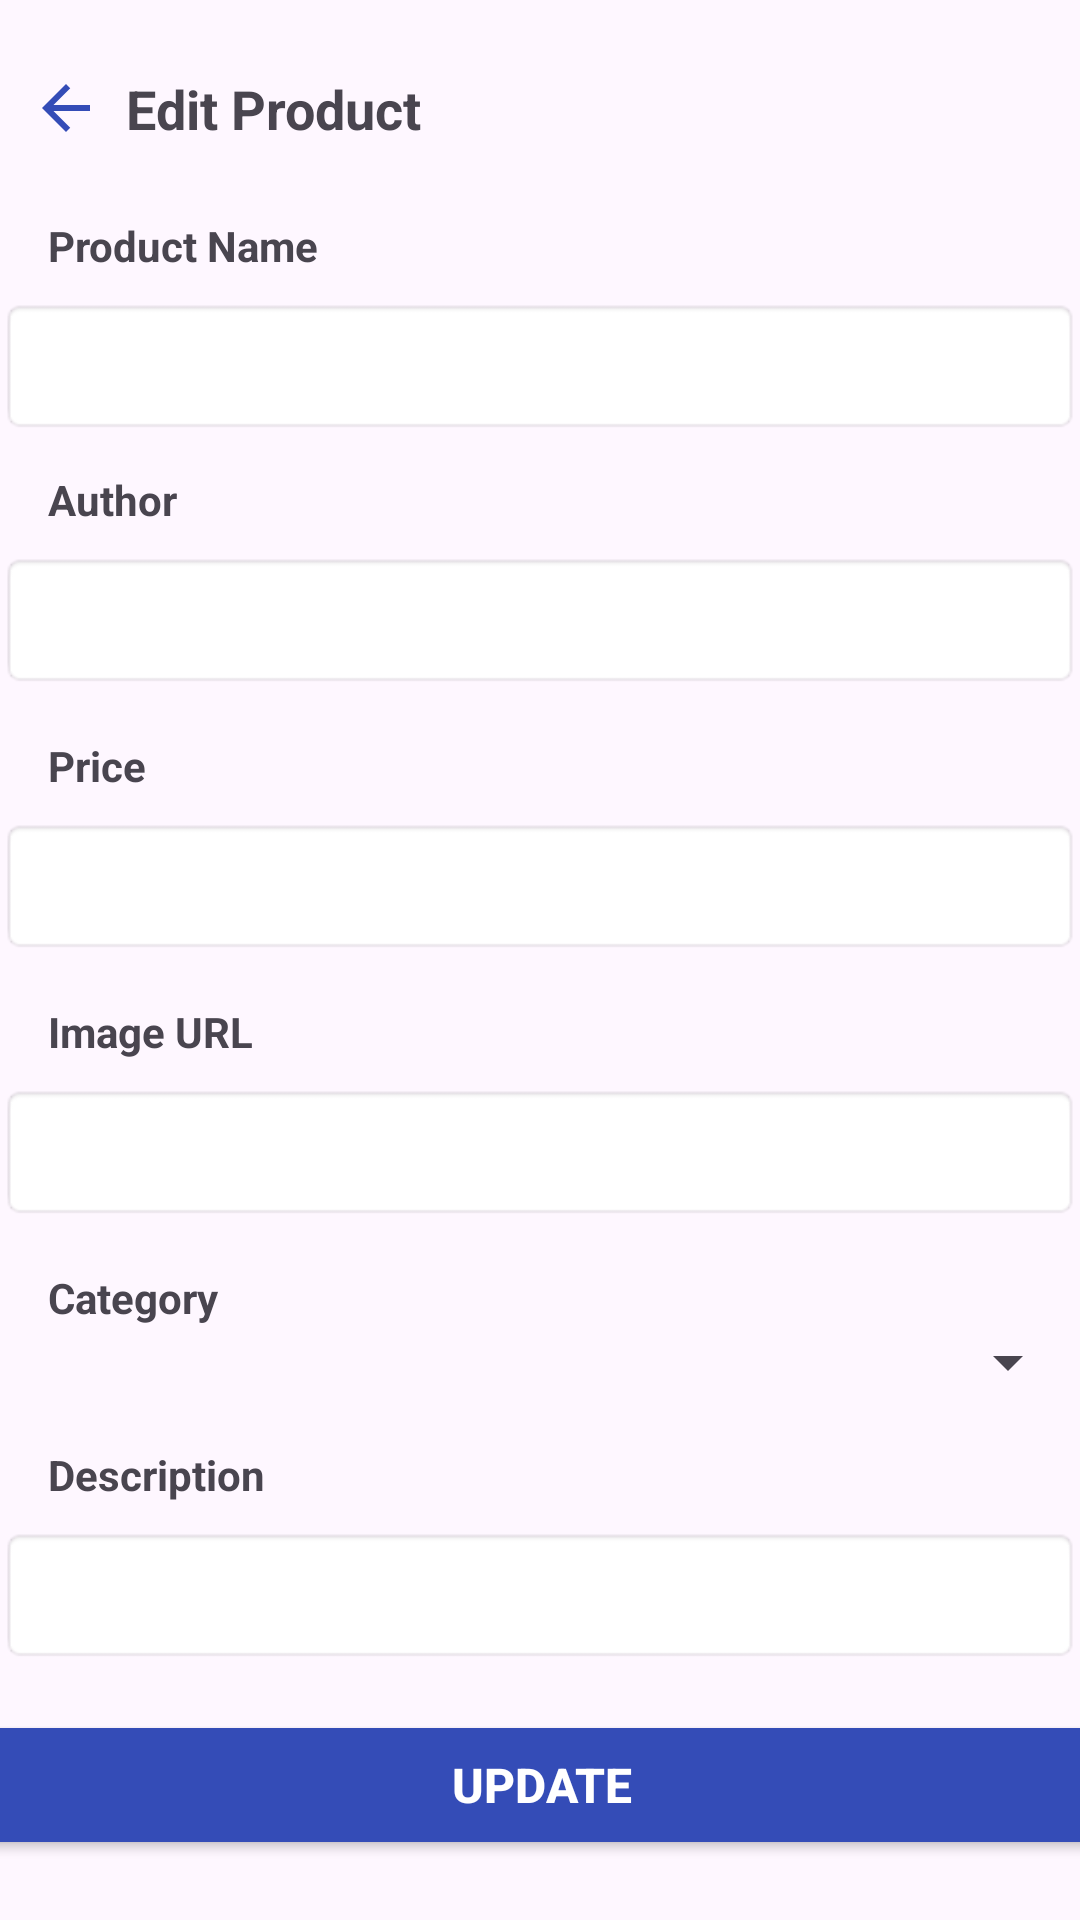

Point at icon controls on the screen. Image size 1080px x 1920px, points as (x,y).
arrow back: (66,108)
